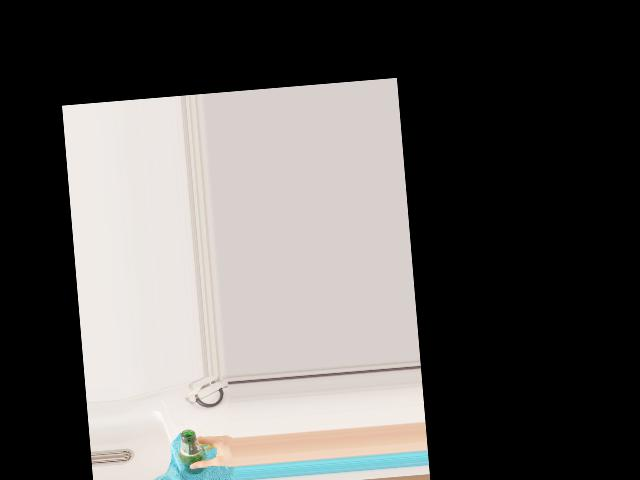beer: (177, 429, 205, 476)
